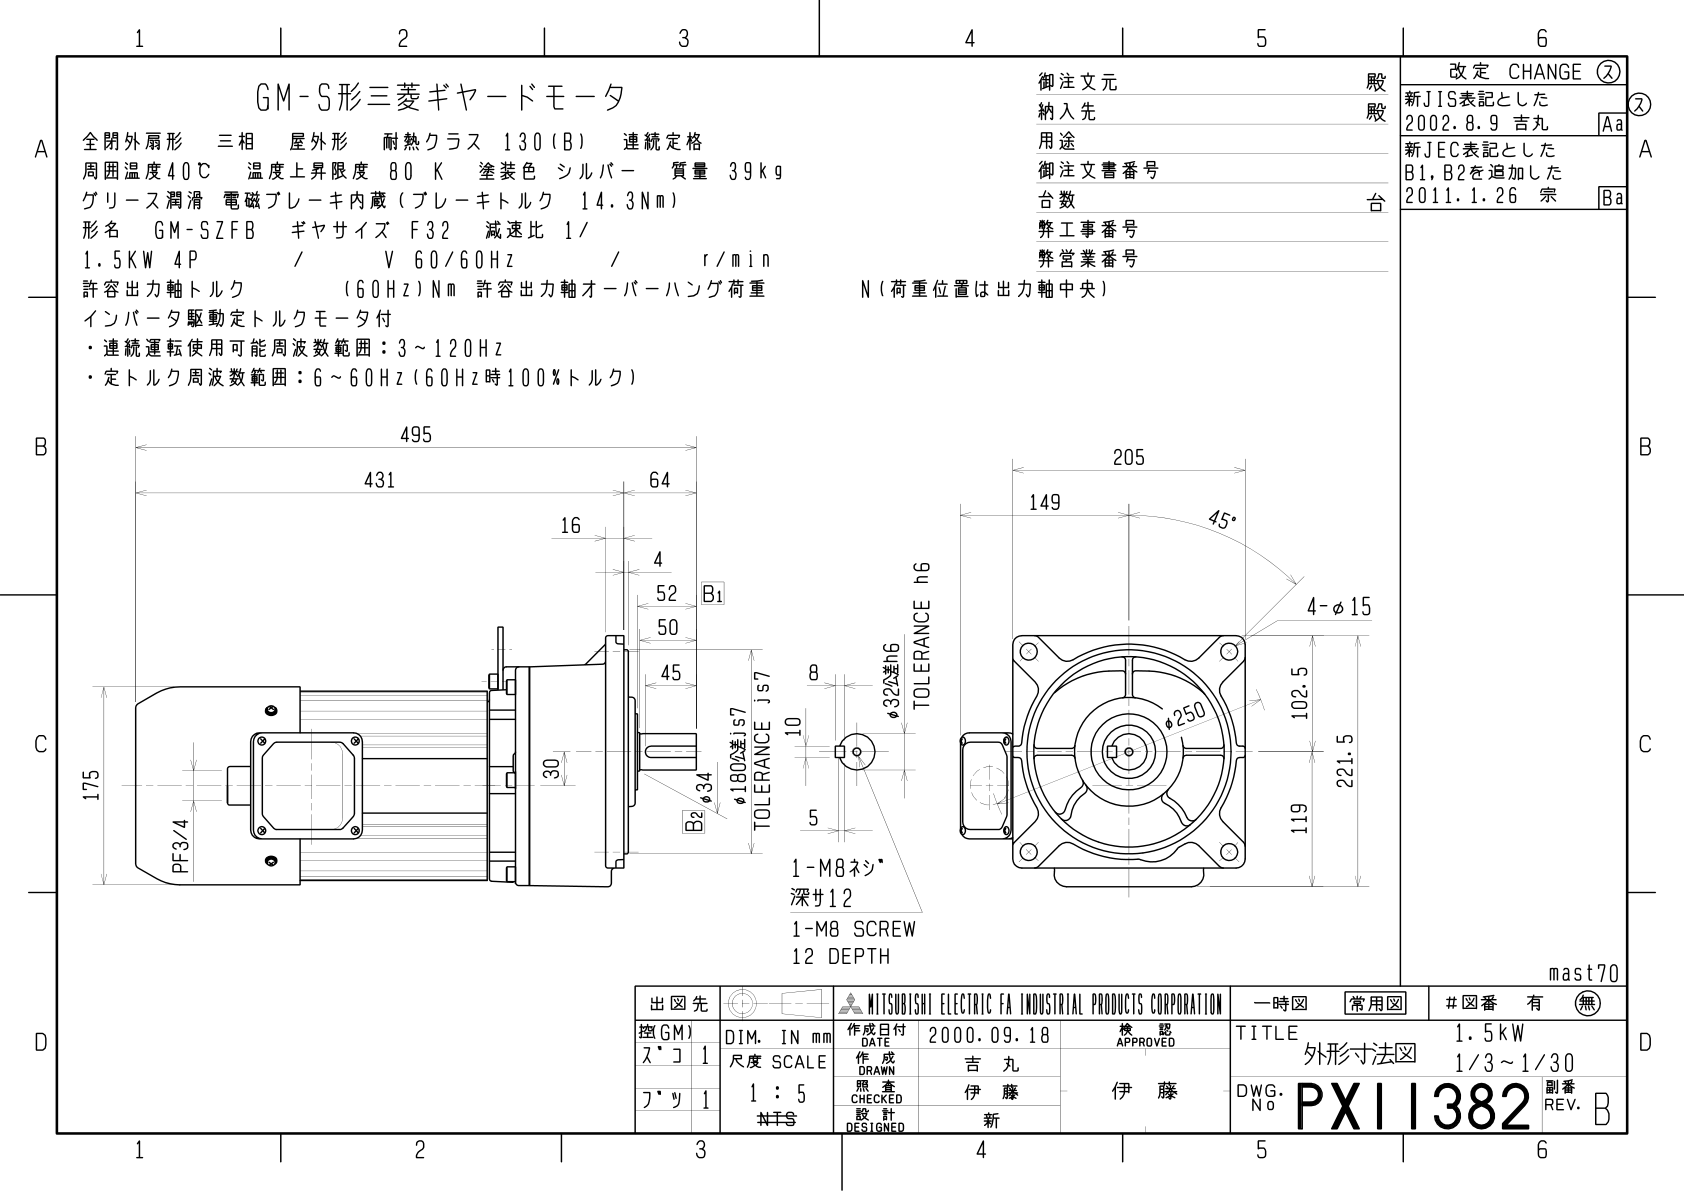GM_S_インバタ屋外＿三相_フランジ: (70, 400, 1385, 978)
